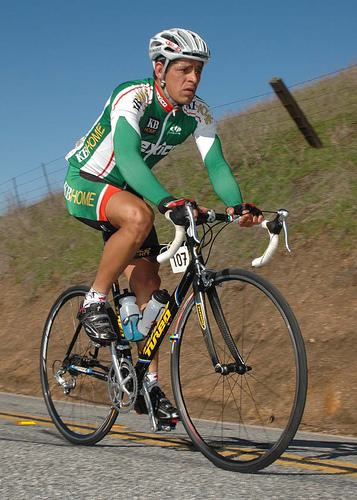car: (40, 201, 309, 475)
person: (63, 29, 264, 422)
